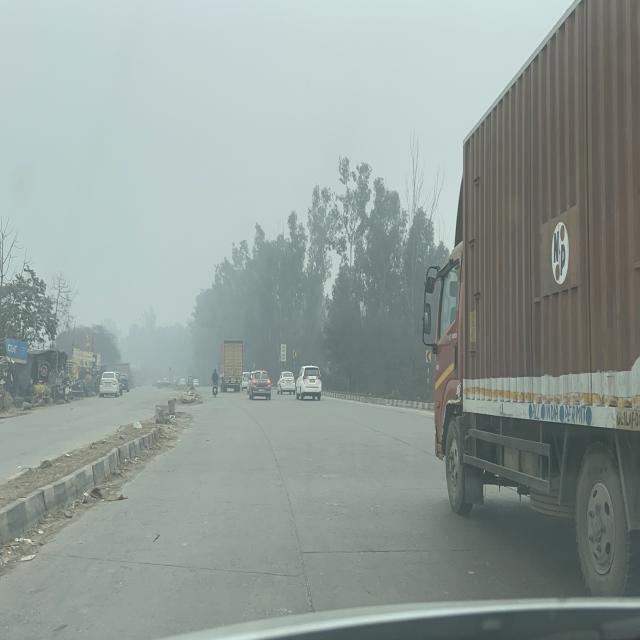TURN_LEFT: (426, 350, 431, 363), (294, 350, 296, 358), (253, 362, 255, 368)
